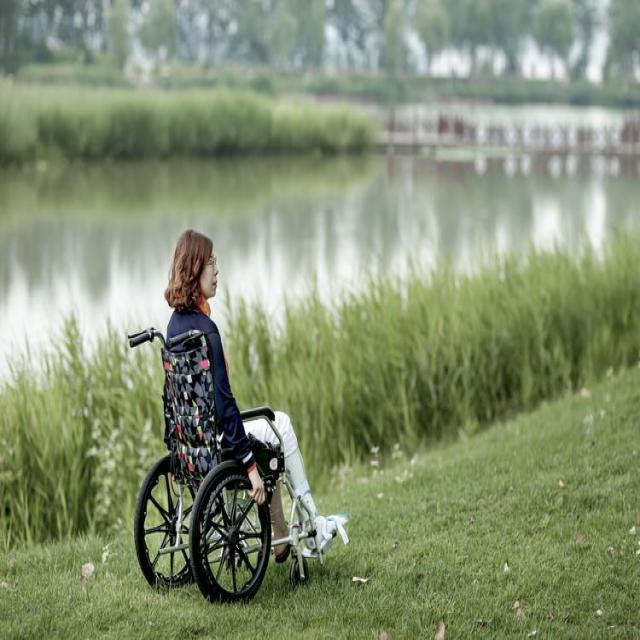wheelchairs: (117, 322, 330, 602)
